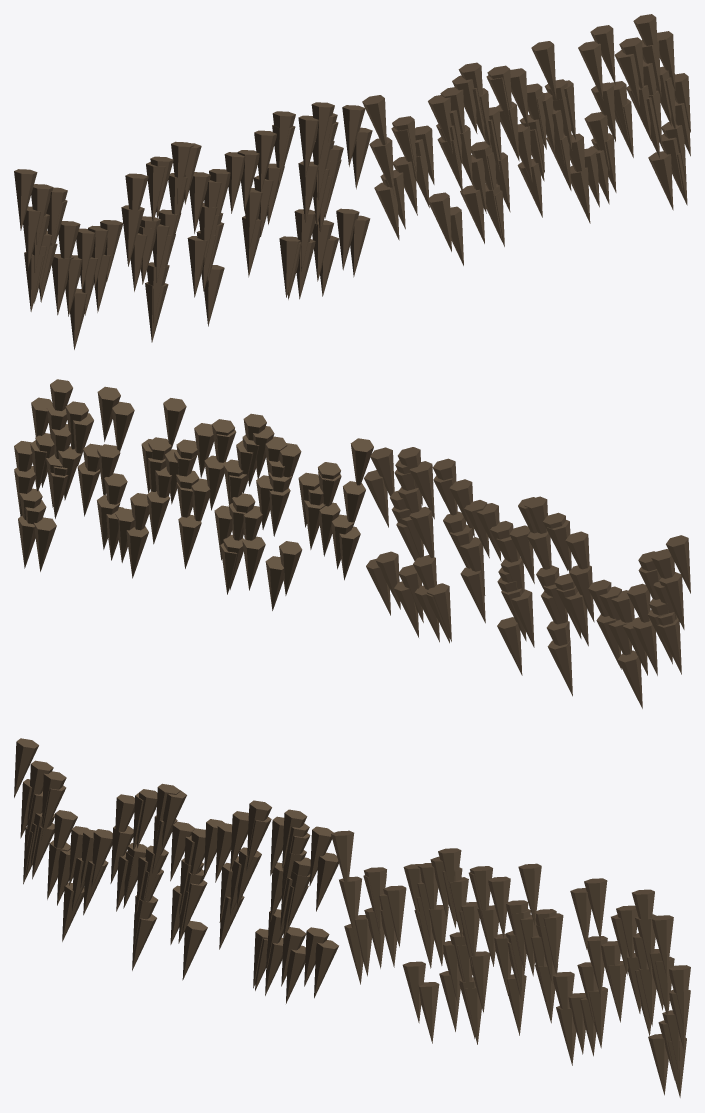
File: mustache.glb
3 renders of one model, top to bottom at view 1: azimuth 30°, elevation 25°; view 2: azimuth 150°, elevation 25°; view 3: azimuth 330°, elevation 25°, orthographic.
Parts seen in each view (by area): view 1: p47, p87, p116, p146, p91, p64, p119, p62, p131, p55, p59, p12 (+64 smaller); view 2: p47, p22, p131, p115, p87, p61, p116, p90, p119, p146, p55, p64 (+60 smaller); view 3: p59, p116, p79, p45, p47, p22, p99, p55, p29, p119, p27, p108 (+52 smaller).
Part boxes in pixels (x1,y1,x2,y2): p47: [14, 169, 37, 230]; p87: [342, 105, 365, 166]; p116: [531, 41, 556, 100]; p146: [336, 208, 359, 270]; p91: [254, 130, 276, 191]; p64: [578, 41, 603, 100]; p119: [429, 192, 451, 251]; p62: [648, 151, 673, 210]; p131: [298, 115, 318, 176]; p55: [362, 95, 386, 144]; p59: [590, 25, 615, 84]; p12: [121, 205, 144, 266]; p47: [666, 535, 690, 593]; p22: [497, 617, 522, 675]; p131: [409, 461, 434, 519]; p115: [617, 650, 642, 708]; p87: [370, 447, 394, 496]; p61: [409, 506, 434, 557]; p116: [163, 398, 186, 450]; p90: [509, 525, 534, 583]; p119: [279, 541, 302, 595]; p146: [375, 551, 400, 609]; p55: [350, 438, 373, 485]; p64: [112, 401, 134, 451]; p59: [584, 878, 607, 940]; p116: [518, 863, 541, 925]; p79: [488, 876, 510, 938]; p45: [652, 915, 673, 976]; p47: [14, 738, 38, 797]; p22: [182, 920, 207, 980]; p99: [669, 965, 690, 1026]; p55: [331, 830, 354, 881]; p29: [418, 982, 439, 1043]; p119: [402, 961, 425, 1023]; p27: [383, 885, 406, 947]; p108: [339, 876, 361, 937].
Bounding box in the file's own units: 0.0944 × 0.0274 × 0.00692.
